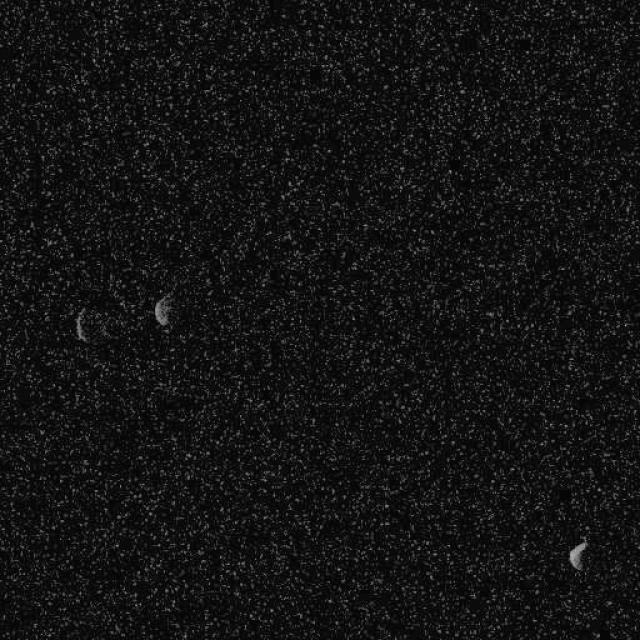D2: (152, 294, 172, 328), (568, 539, 588, 571), (74, 308, 88, 342)
